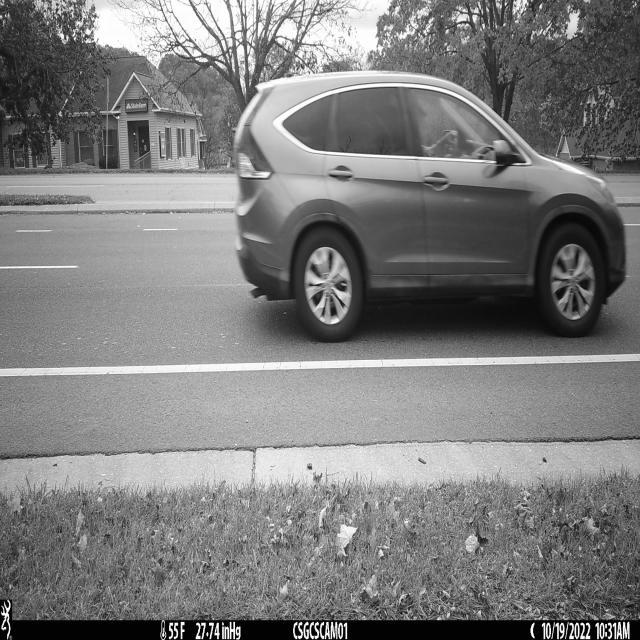SUV: (233, 71, 627, 344)
